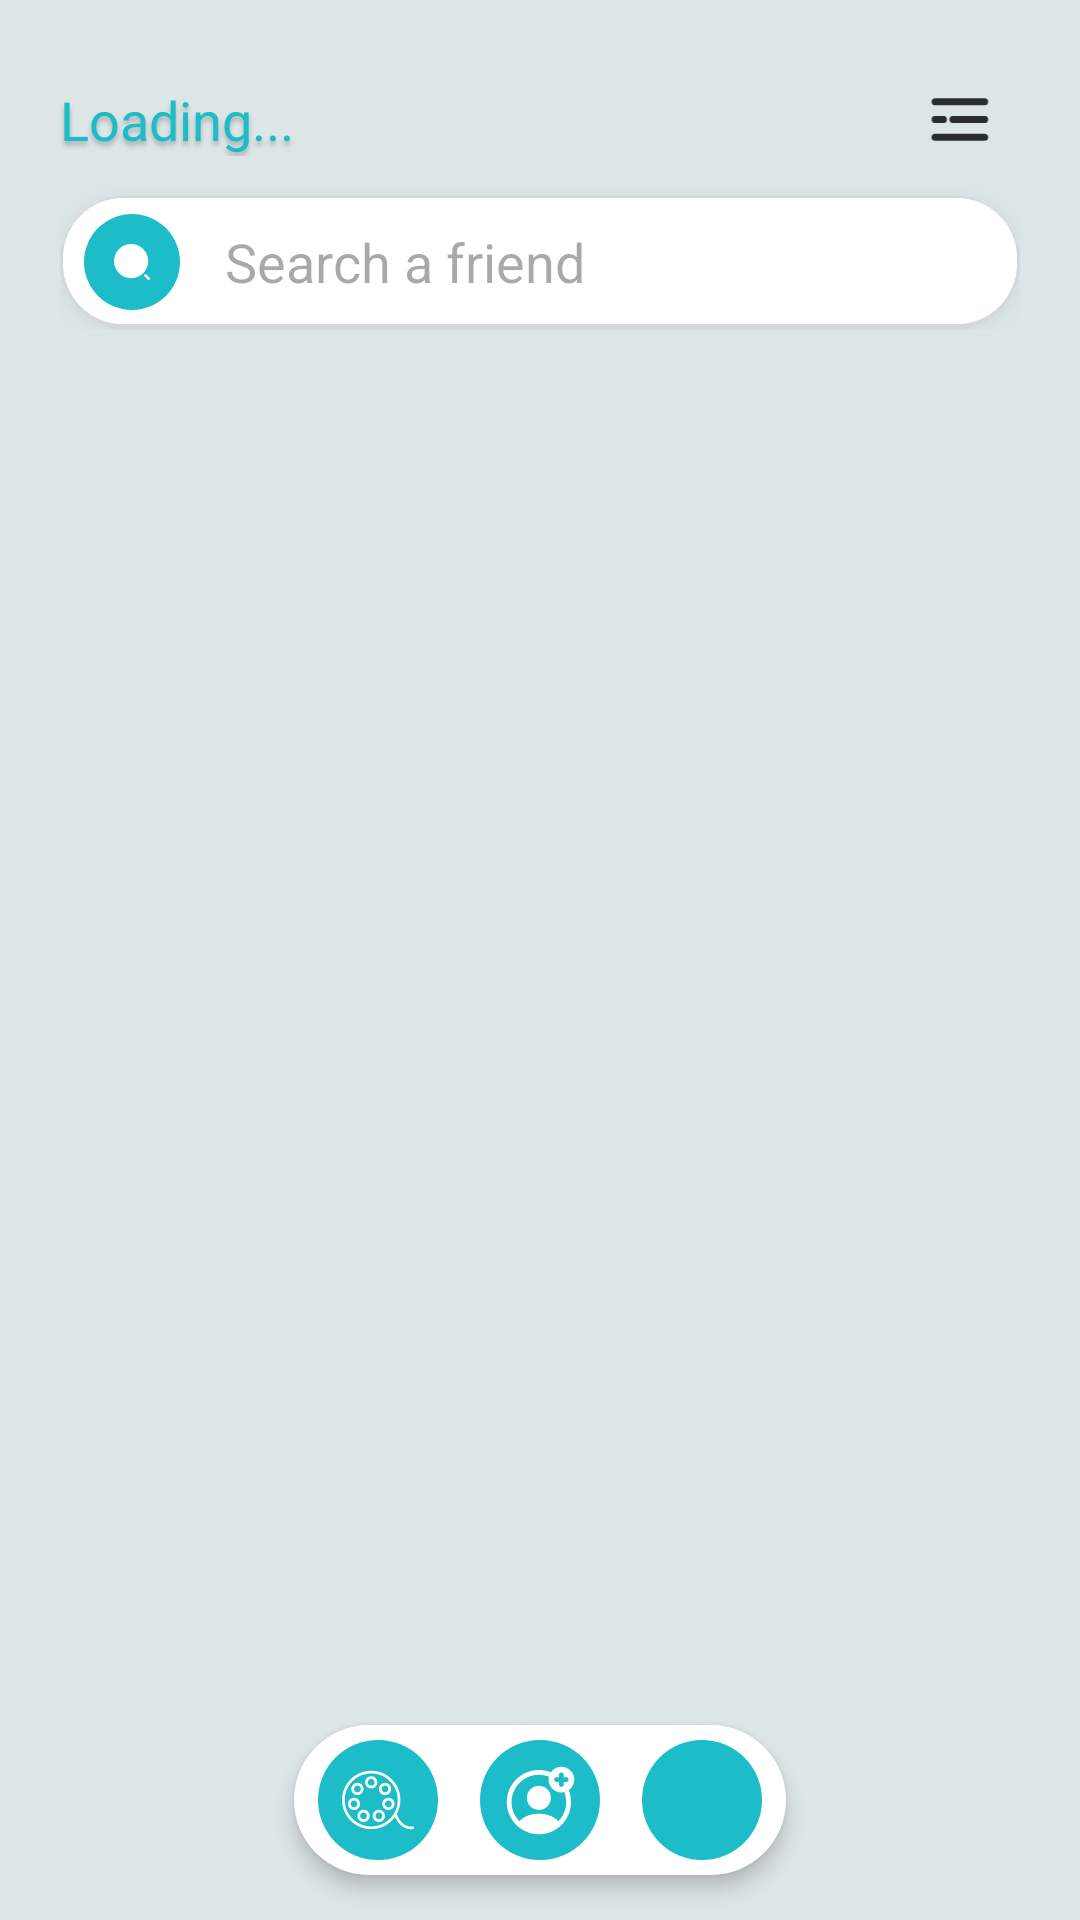

Where to tap for icons on this 1080*1920 app screen, as (x,y):
add friend: (540,1800)
menu: (960,119)
movie: (378,1800)
